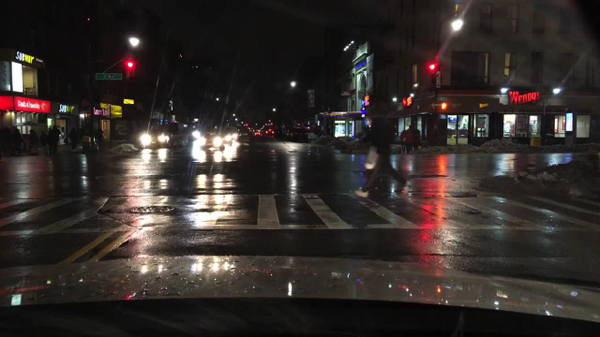car: (140, 123, 171, 148), (198, 129, 224, 152), (289, 127, 310, 142), (221, 126, 240, 142), (274, 127, 285, 137), (239, 129, 250, 137), (265, 128, 275, 136), (254, 130, 262, 138)
person: (354, 114, 410, 198), (45, 126, 55, 156), (67, 128, 79, 152), (13, 126, 22, 158), (3, 127, 13, 155), (405, 127, 413, 154), (40, 129, 50, 148), (400, 128, 407, 154), (27, 130, 38, 146), (414, 127, 421, 150), (79, 126, 87, 139), (97, 128, 104, 142)
traffic light: (428, 62, 436, 81), (128, 59, 133, 75), (440, 102, 448, 110), (431, 103, 438, 110)
traffic sign: (95, 74, 122, 79), (93, 109, 104, 116), (440, 103, 449, 110)
